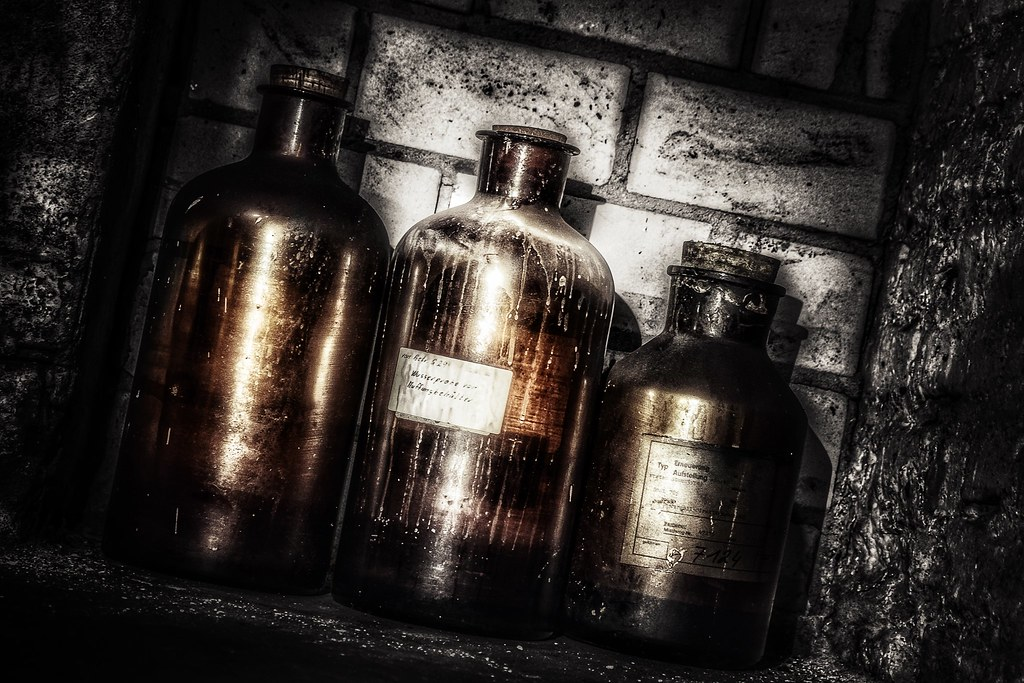bottle: (362, 59, 612, 641)
